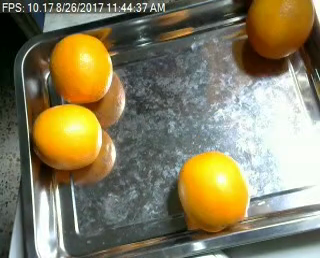Orange: (178, 150, 246, 233), (32, 105, 102, 170), (51, 33, 113, 104), (246, 1, 315, 58)
